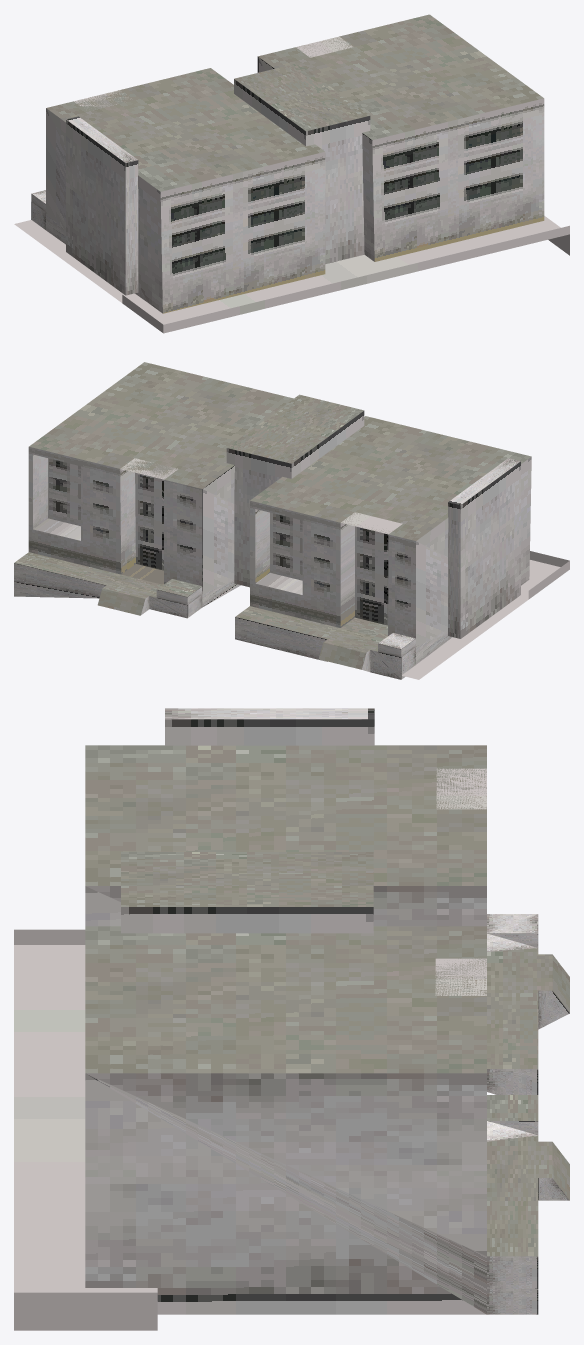
File: lodwilshire1_law.obj
The picture shows the model from 3 angles, top to bottom: view 1: azimuth 30°, elevation 25°; view 2: azimuth 150°, elevation 25°; view 3: azimuth 270°, elevation 25°; orthographic projection. The views are drawn at different scales.
Visible parts, largest first — view 1: LODwilshire1_law; view 2: LODwilshire1_law; view 3: LODwilshire1_law.
Boxes of the visible parts, x1,y1,x2,y2 form: LODwilshire1_law: (14, 14, 569, 333); LODwilshire1_law: (14, 362, 569, 679); LODwilshire1_law: (14, 708, 569, 1330).
Bounding box in the file's own units: 52.49 × 19.64 × 35.47.
4 materials, 4 textured.
